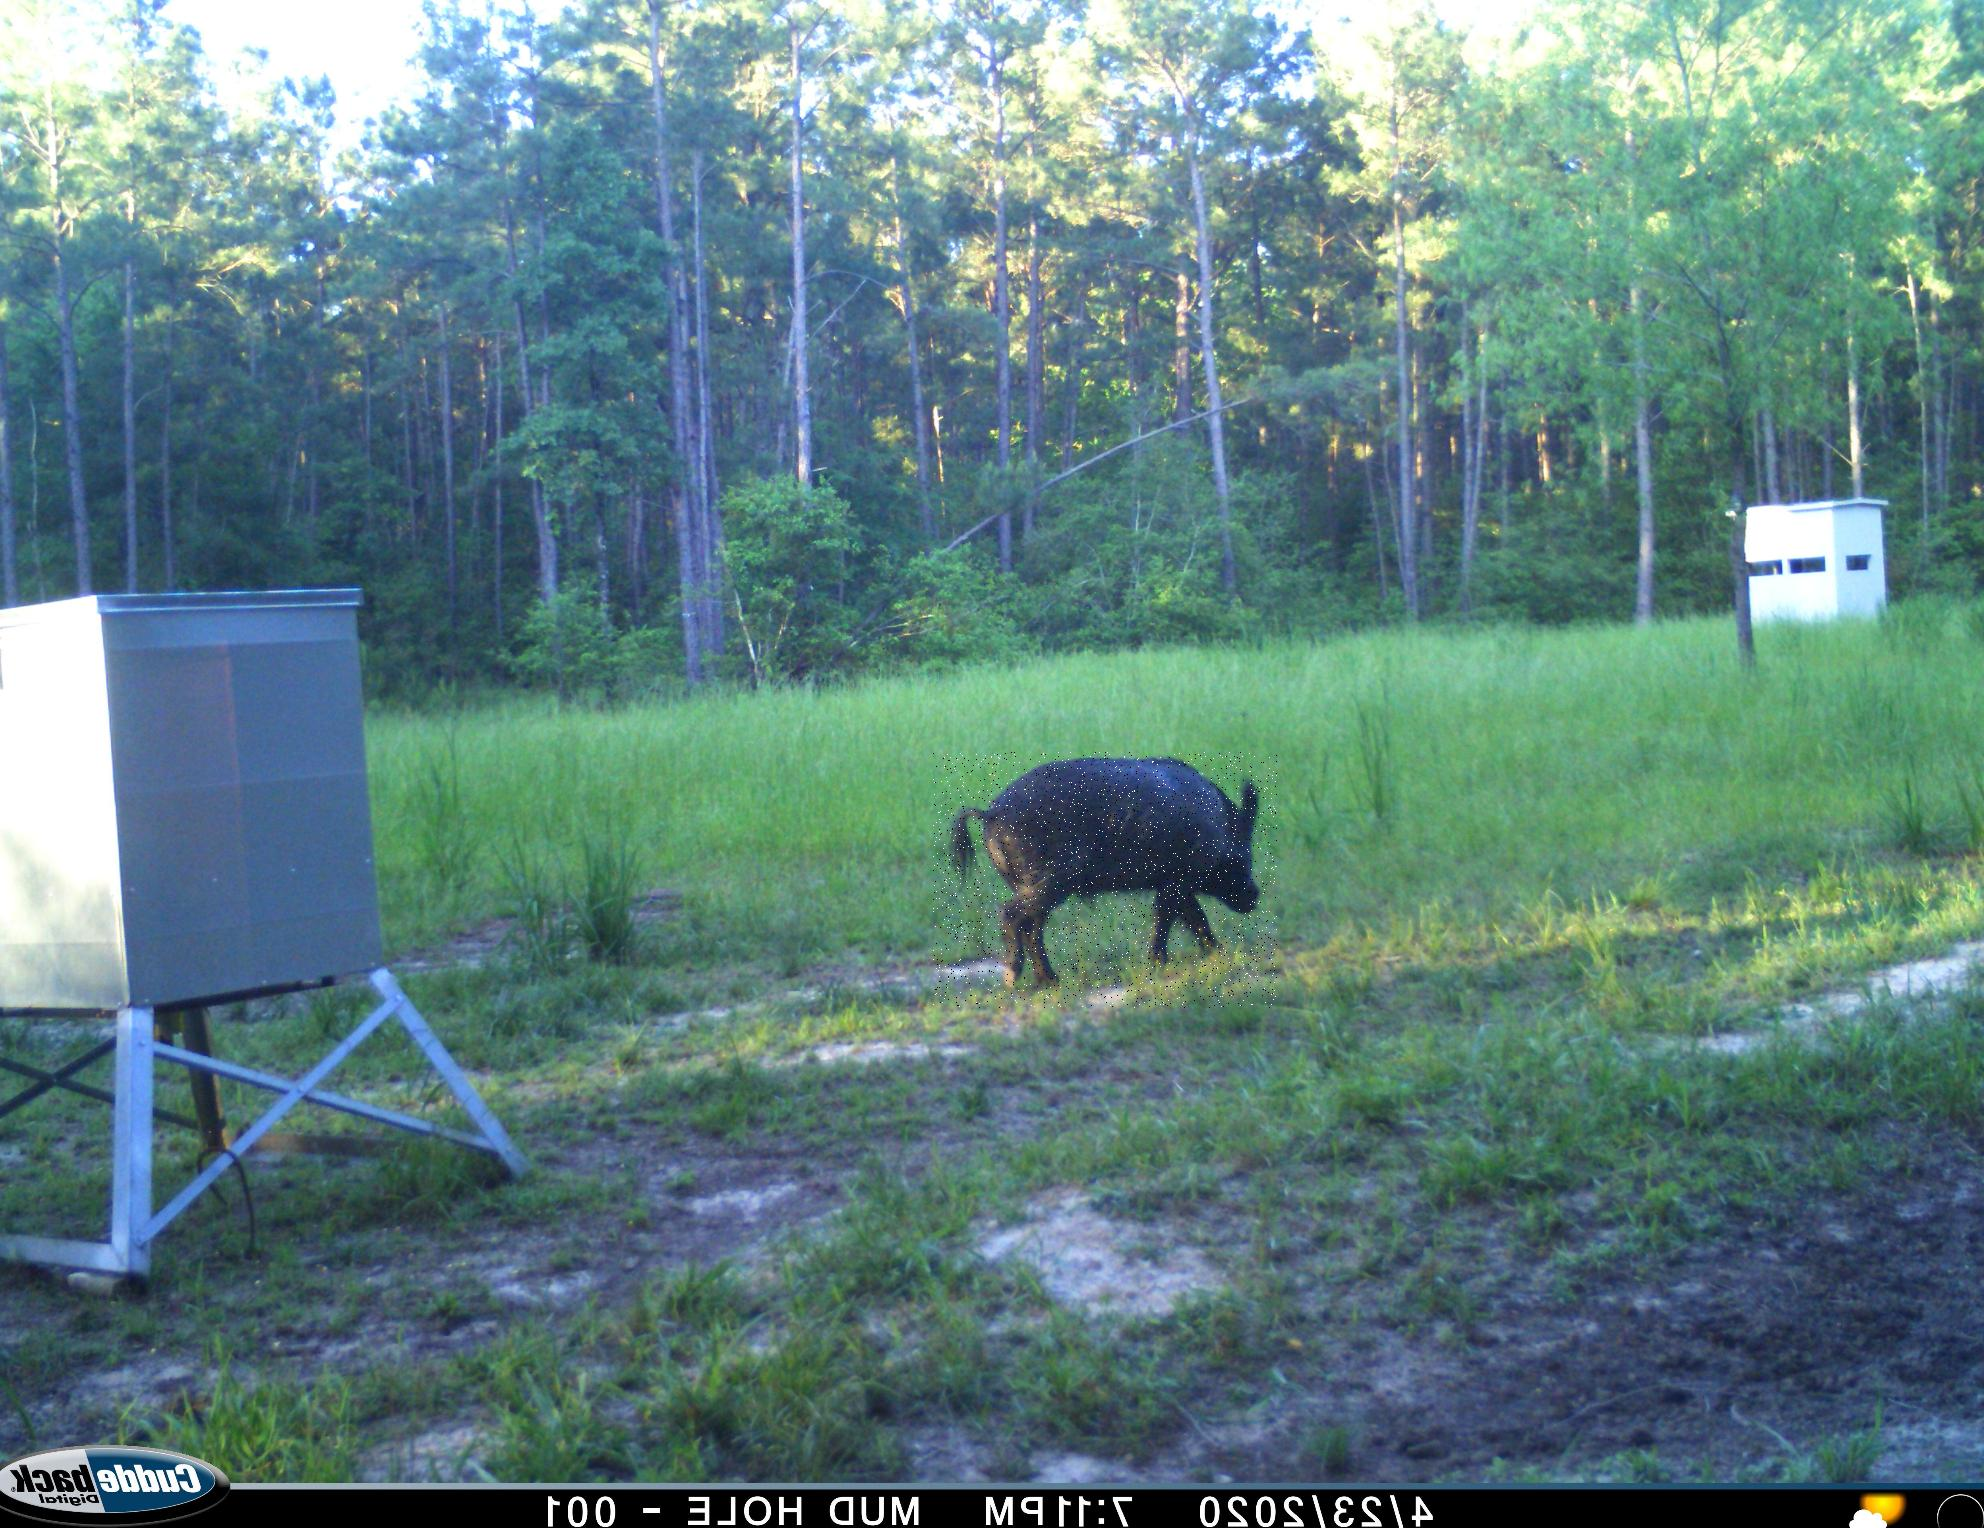Hog: (933, 751, 1278, 1008)
